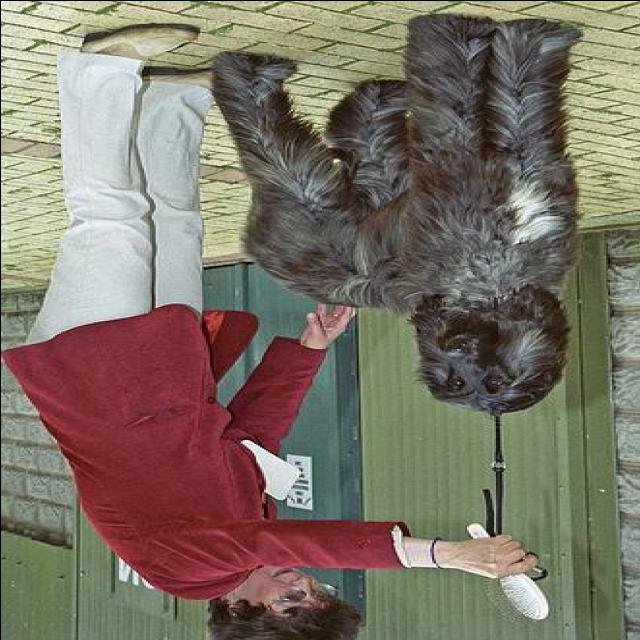afghan_hound: (211, 13, 586, 411)
